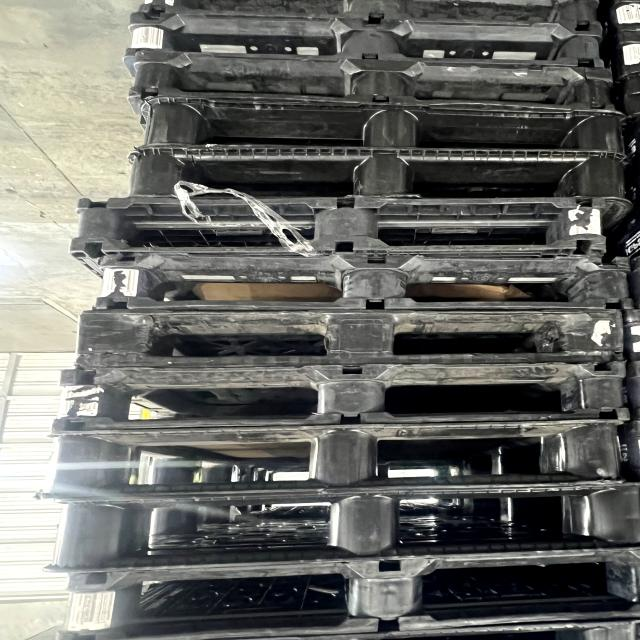igps: (31, 474, 640, 586), (42, 535, 640, 640), (23, 415, 636, 509), (38, 354, 640, 443), (65, 298, 640, 384), (59, 181, 614, 265), (120, 86, 640, 170), (116, 42, 626, 126), (118, 141, 640, 216), (76, 252, 640, 320), (116, 8, 614, 82), (132, 0, 609, 32)
